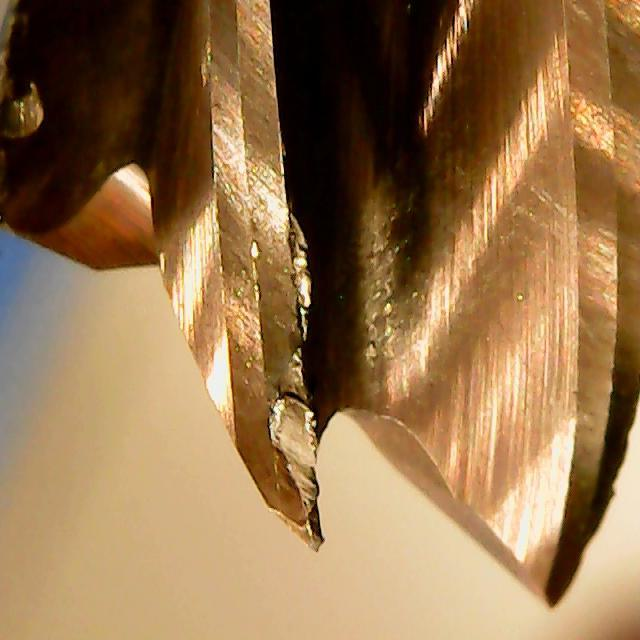Tool-wear-class-2: (194, 262, 342, 554)
